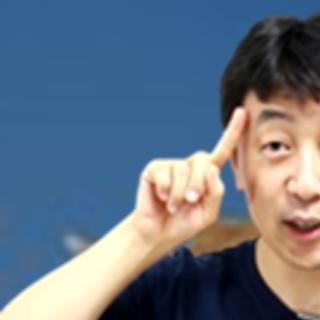IRRITATED: (131, 102, 253, 253)
